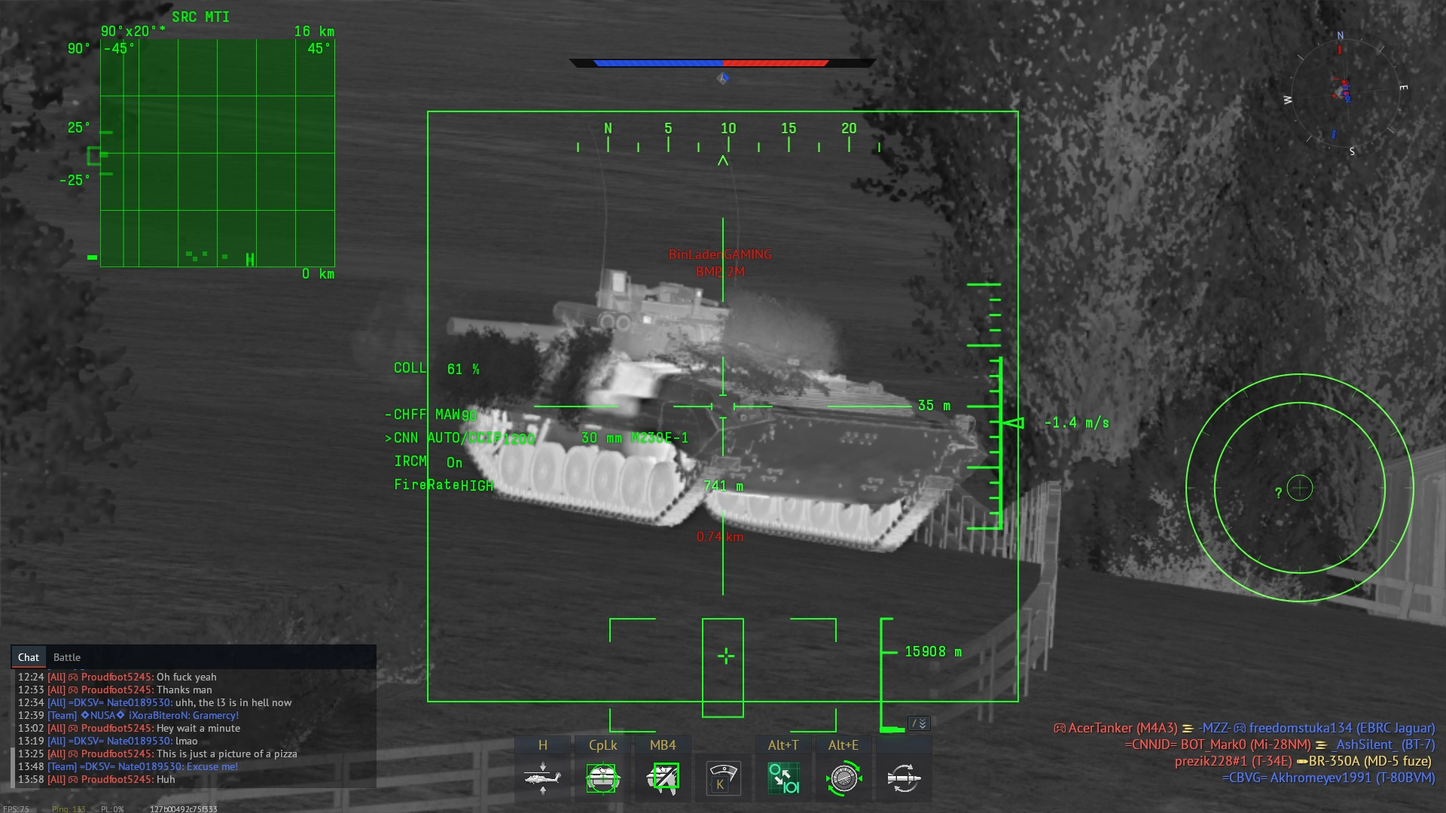bmp2: (446, 267, 987, 554)
